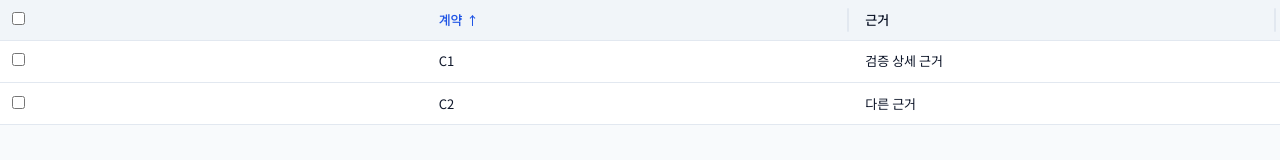
DataTable 정렬·행 선택·페이지 전체 선택을 제공하고 셀 펼치기 버튼은 표시하지 않는다
Click the button "계약 ↑": (459, 20) [439,10,479,30]
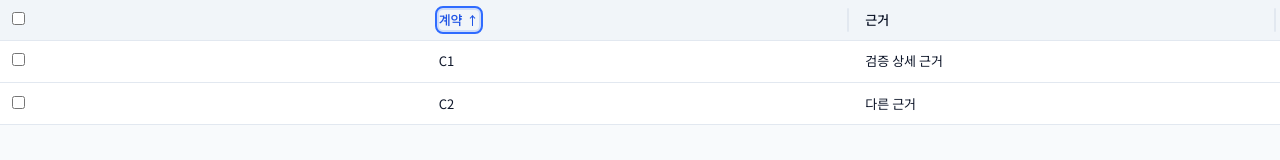
Click the checkbox named "C1 선택": (18, 60) [12,53,25,66]
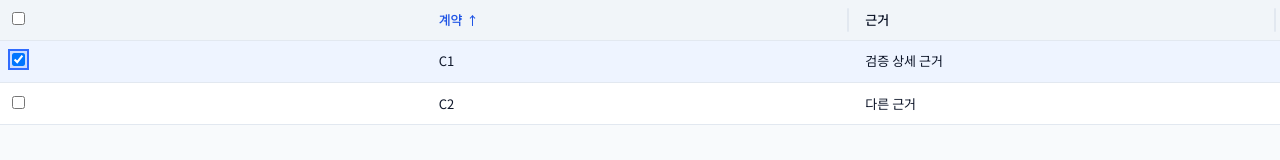
Expected: the checkbox named "C1 선택" is checked, [12,53,25,66]
Click the checkbox named "현재 페이지 전체 선택": (18, 18) [12,12,25,25]
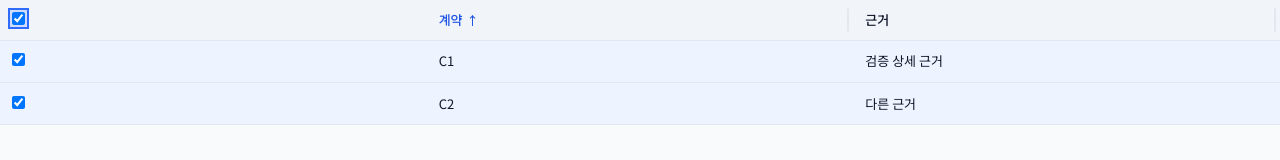
Expected: the text "검증 상세 근거" is shown, [853,40,1279,82]
Expected: the checkbox named "C2 선택" is checked, [12,96,25,108]
